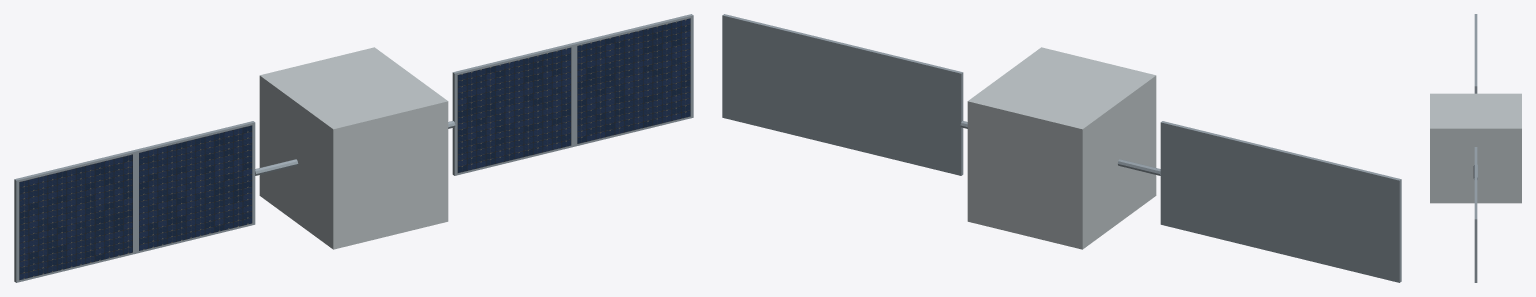
The model's file is ref-innosat-60543.glb.
3 renders of one model, left to right at view 1: azimuth 30°, elevation 25°; view 2: azimuth 150°, elevation 25°; view 3: azimuth 270°, elevation 25°, orthographic. The views are drawn at different scales.
Visible parts, largest first — view 1: Photovoltaic laminates (×4), Spacecraft body, Array frame (×4); view 2: Array frame (×4), Spacecraft body; view 3: Spacecraft body, Array frame (×4).
Boxes of the visible parts, x1,y1,x2,y2 form: Photovoltaic laminates (×4): (19,18,690,280); Spacecraft body: (259,47,448,249); Array frame (×4): (14,14,693,282); Array frame (×4): (722,14,1401,282); Spacecraft body: (967,47,1156,249); Spacecraft body: (1430,93,1521,203); Array frame (×4): (1474,14,1477,282).
Bounding box in the file's own units: 5.3 × 0.9 × 1.
3 materials, 1 textured.
